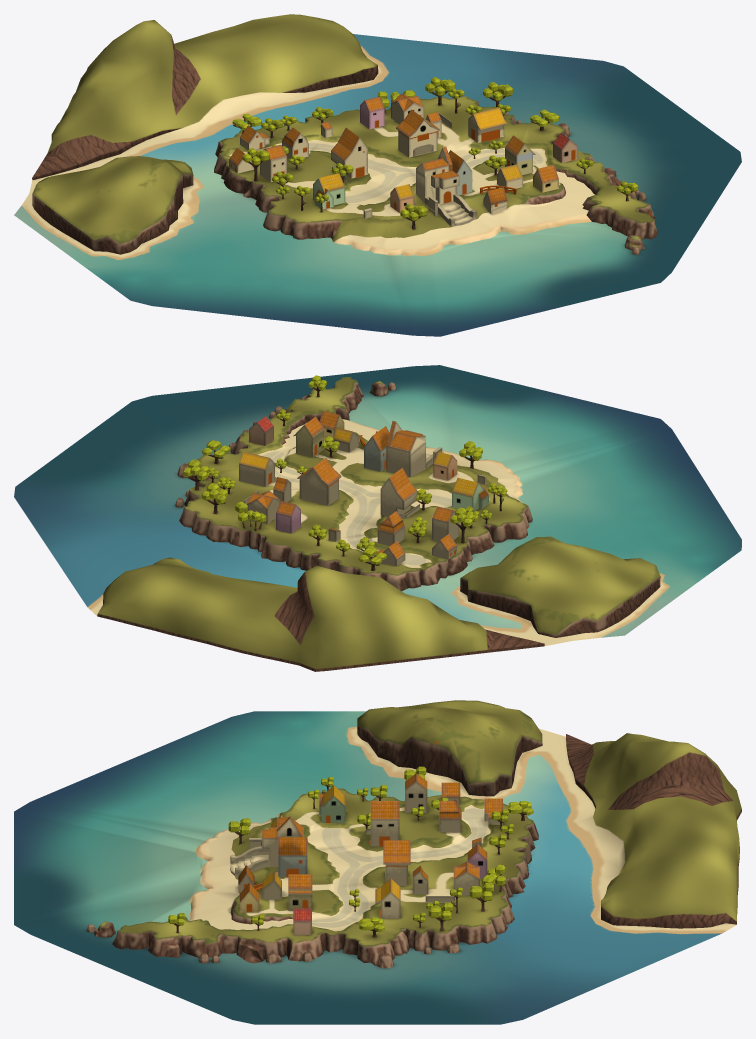
The model's file is pueblo2.fbx.
The picture shows the model from 3 angles, top to bottom: view 1: azimuth 30°, elevation 25°; view 2: azimuth 150°, elevation 25°; view 3: azimuth 270°, elevation 25°; orthographic projection. The views are drawn at different scales.
Visible parts, largest first — view 1: Plane.003; view 2: Plane.003; view 3: Plane.003.
Boxes of the visible parts, <box> form: Plane.003: <box>14,14,741,336</box>; Plane.003: <box>14,365,741,671</box>; Plane.003: <box>14,700,741,1024</box>.
Size of the model in its own units: 2841 by 337 by 2789.
Materials: 1 (1 with a texture image).
